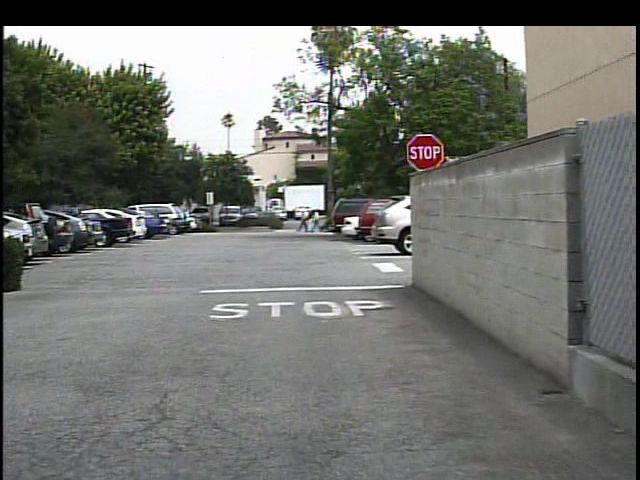person: (291, 209, 305, 235), (305, 208, 319, 234)
